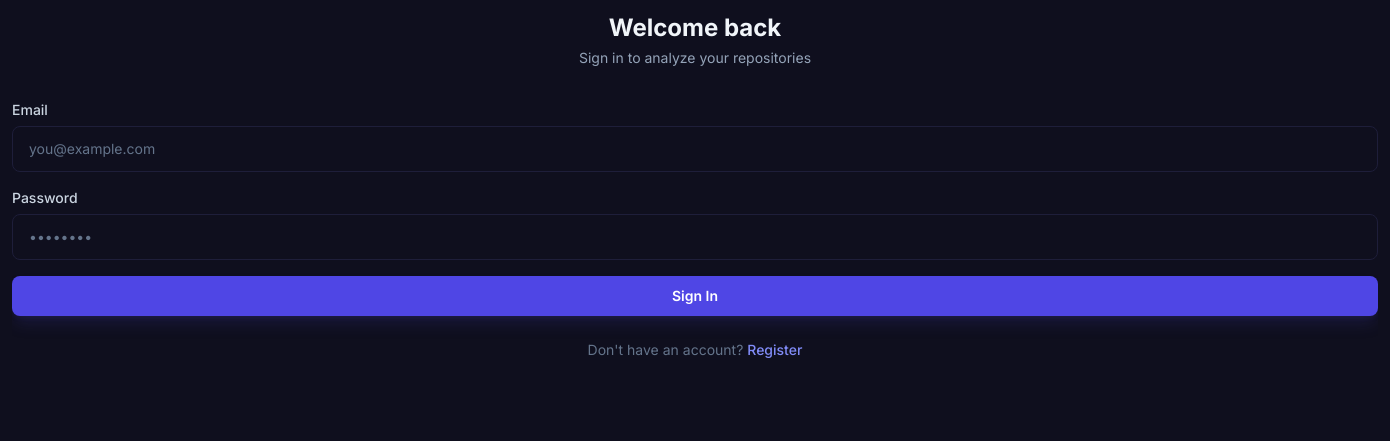
it: LoginPage — error handling › displays fallback error when server returns no message
This screenshot has width=1390, height=441.
Type "bad@example.com" into the field labelled "Email" at (695, 149), box [12,126,1378,172]
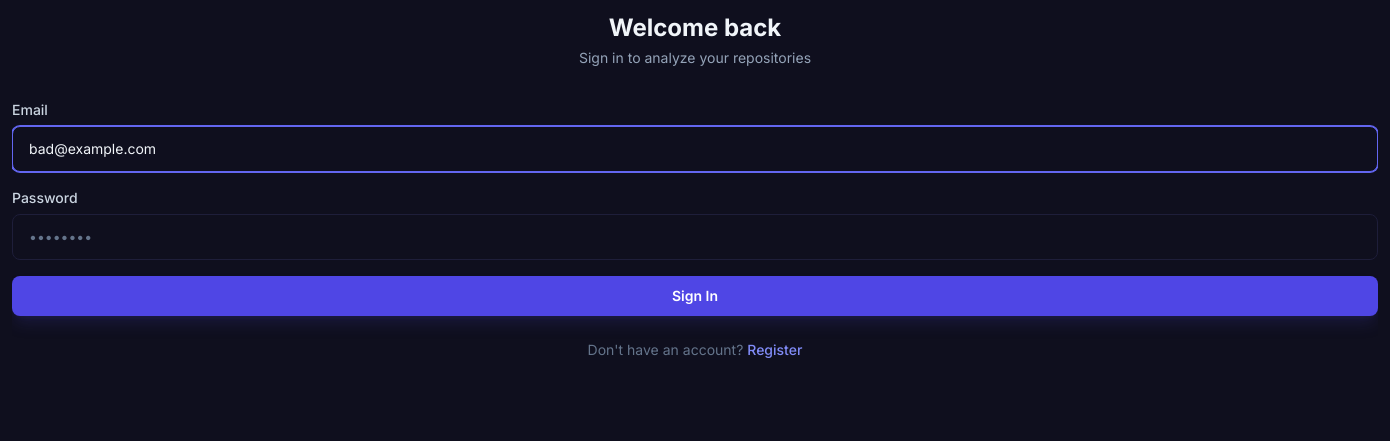
Type "pass" into the password field labelled "Password" at (695, 237), box [12,214,1378,260]
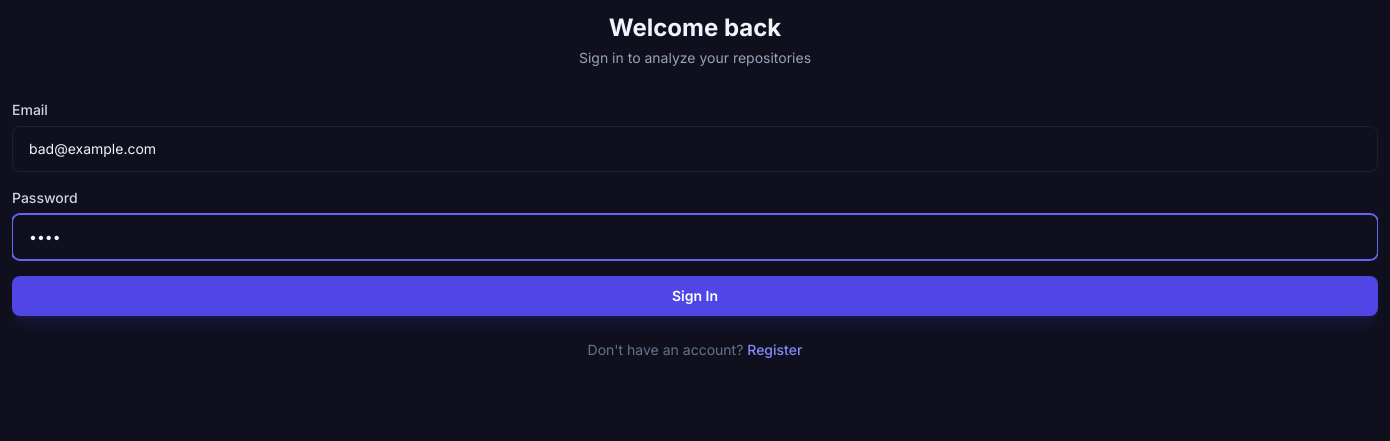
Click the button "Sign In" at (695, 296), box [12,276,1378,316]
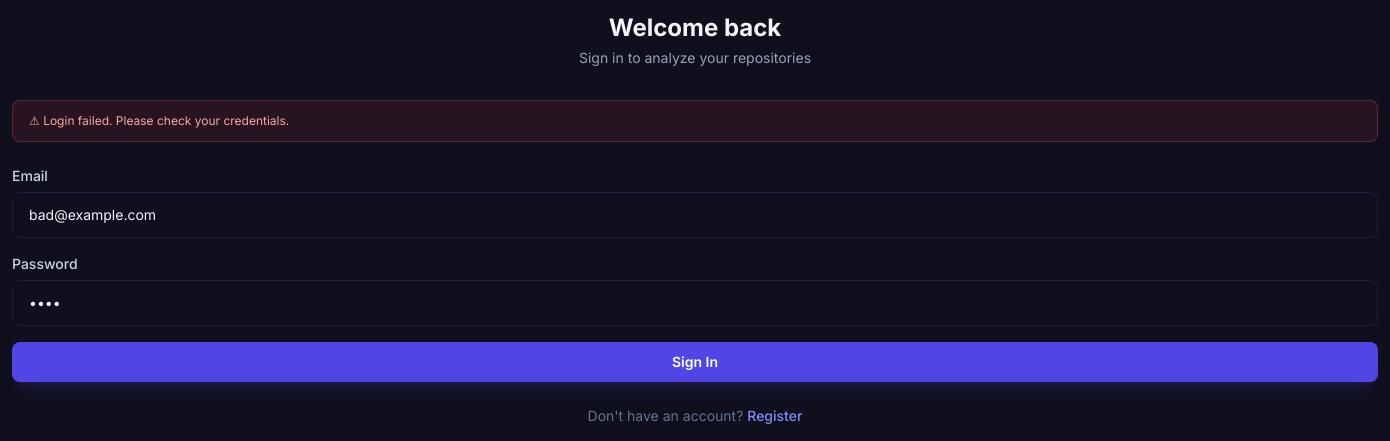
Expected: the text "⚠ Login failed. Please check your credentials." is shown, [12,100,1378,142]
